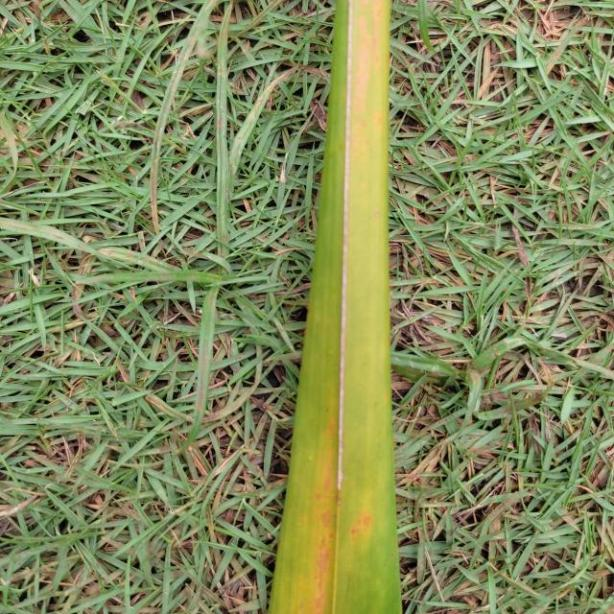nitrogen: (267, 0, 400, 614)
